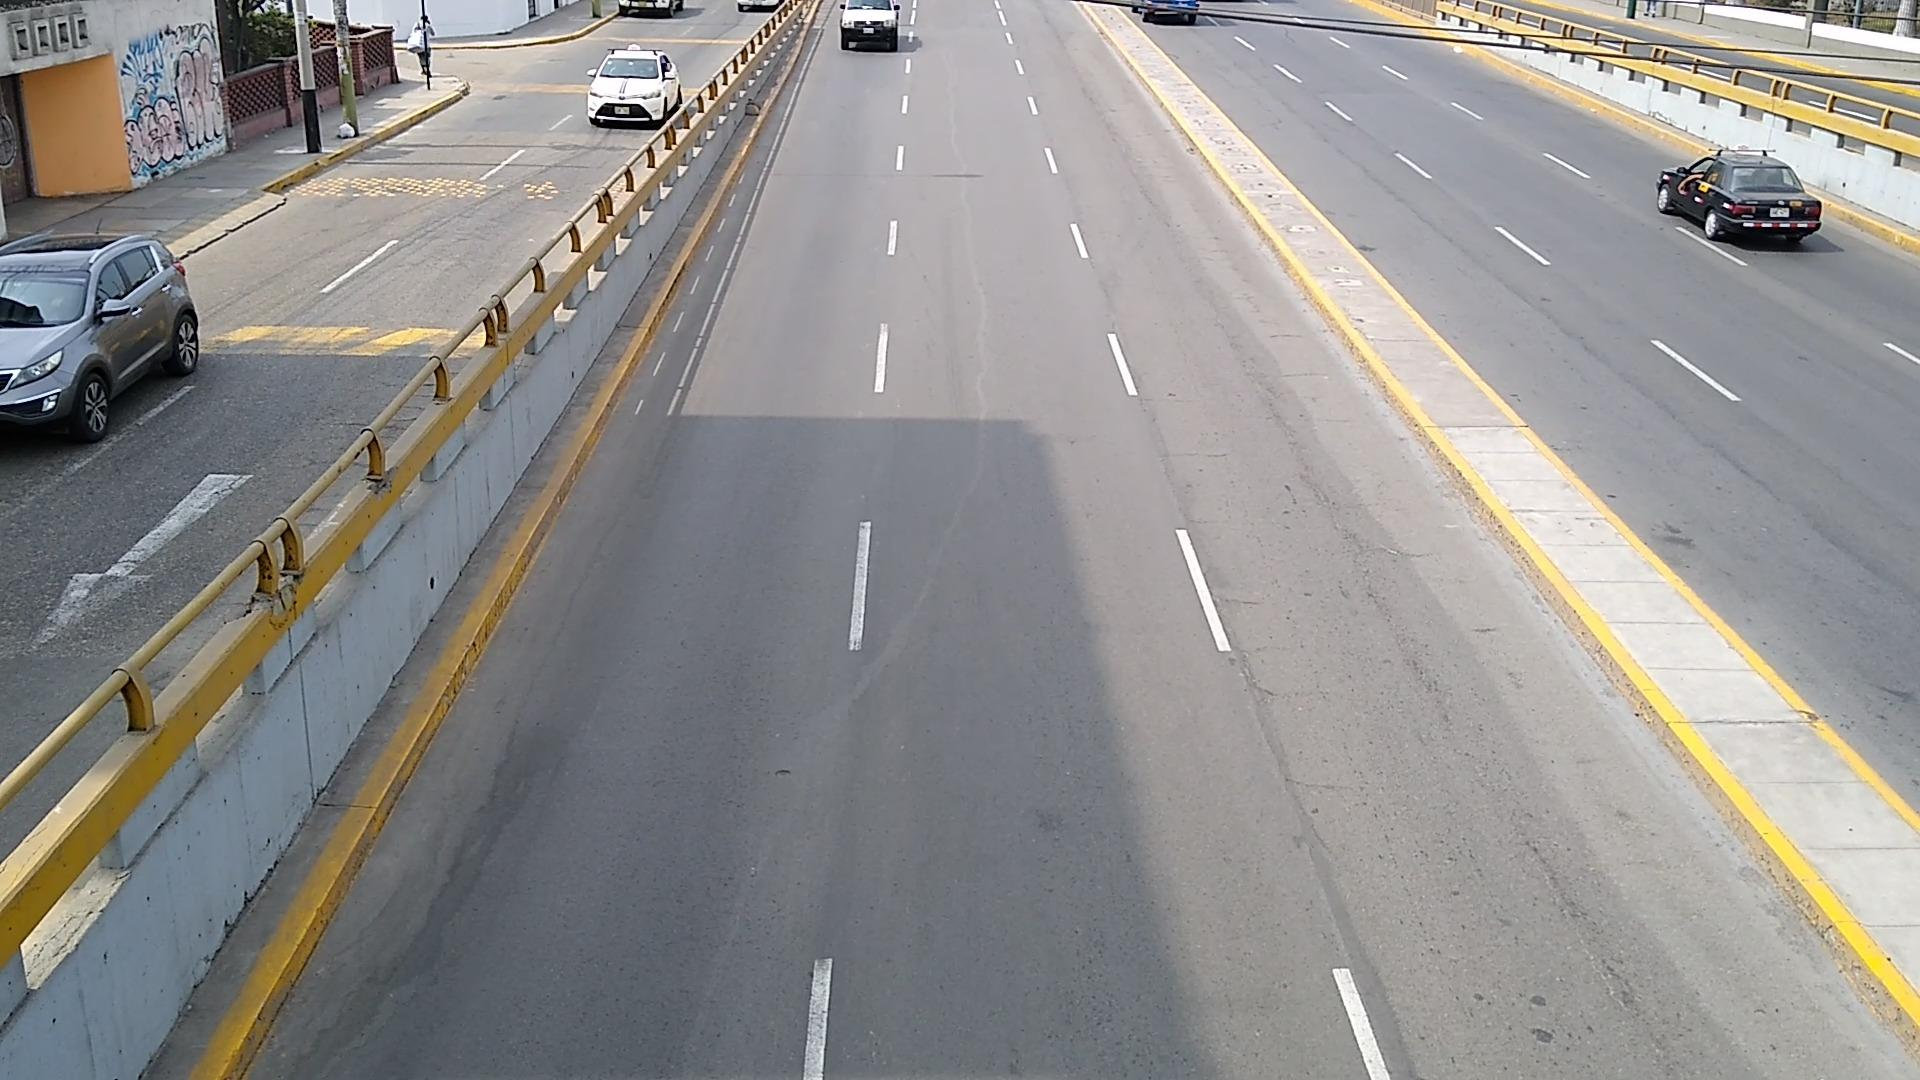car: (0, 236, 199, 440), (1658, 150, 1822, 244), (585, 45, 683, 128), (840, 0, 899, 53)
